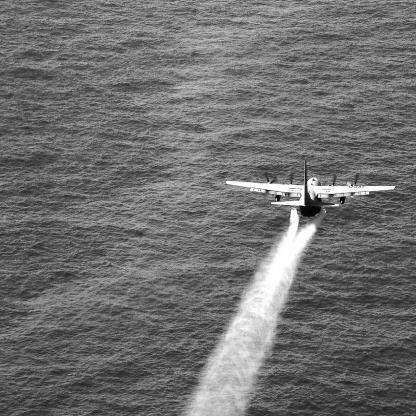C130: (227, 158, 397, 219)
